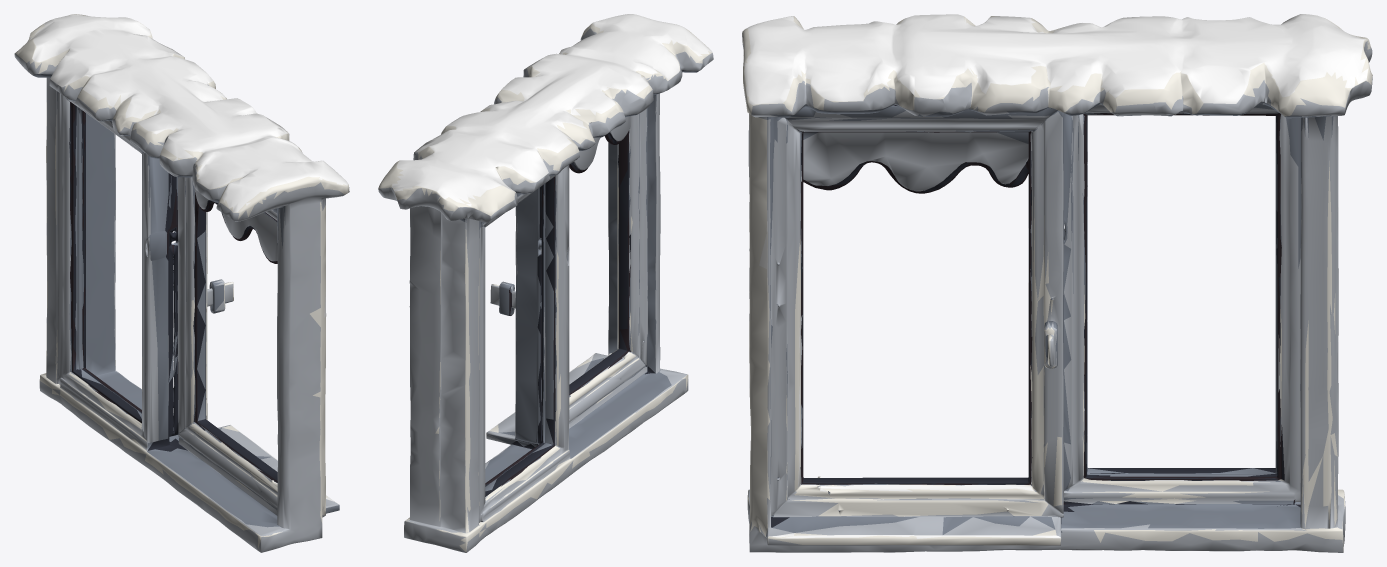
The model's file is SM_shelf_rack_metal.fbx.
The picture shows the model from 3 angles, left to right: view 1: azimuth 30°, elevation 25°; view 2: azimuth 150°, elevation 25°; view 3: azimuth 270°, elevation 25°; orthographic projection. The views are drawn at different scales.
Parts seen in each view (by area): view 1: SM_shelf_rack_metal; view 2: SM_shelf_rack_metal; view 3: SM_shelf_rack_metal.
Boxes of the visible parts, left/top/right/bottom form: SM_shelf_rack_metal: left=14, top=14, right=349, bottom=552; SM_shelf_rack_metal: left=378, top=14, right=713, bottom=552; SM_shelf_rack_metal: left=742, top=14, right=1372, bottom=552.
Bounding box in the file's own units: 45.81 × 130 × 150.
1 material, 1 textured.
